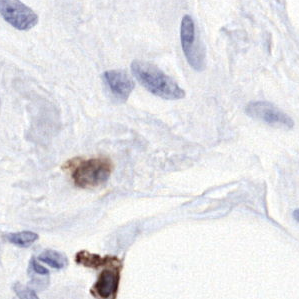Lymphocyte: (62, 154, 116, 187)
